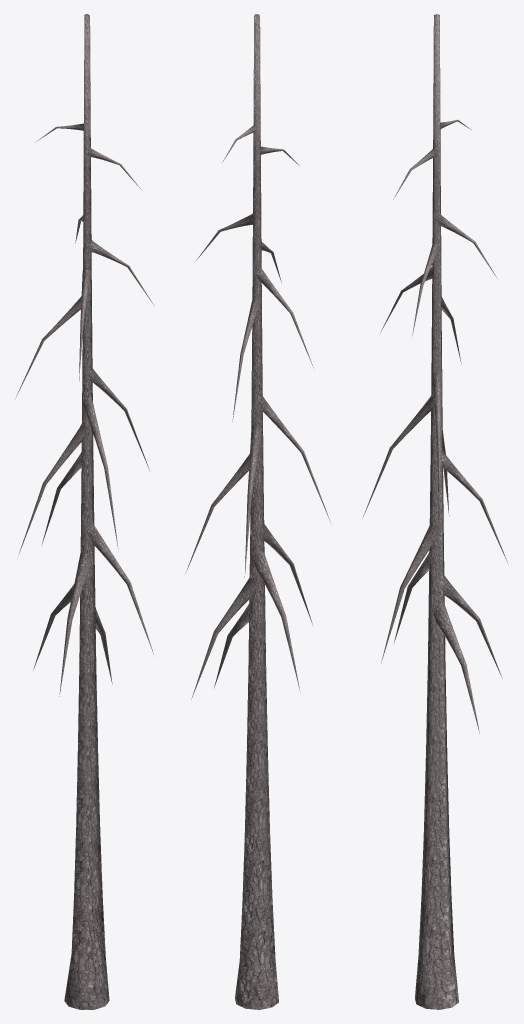
The model's file is died_tree1.fbx.
The picture shows the model from 3 angles, left to right: view 1: azimuth 90°, elevation 25°; view 2: azimuth 150°, elevation 25°; view 3: azimuth 330°, elevation 25°; orthographic projection.
Parts seen in each view (by area): view 1: died_tree1_LOD0; view 2: died_tree1_LOD0; view 3: died_tree1_LOD0.
Part boxes in pixels (<box>): died_tree1_LOD0: <box>16,14,154,1009</box>; died_tree1_LOD0: <box>185,14,330,1009</box>; died_tree1_LOD0: <box>363,14,507,1009</box>.
Size of what is drawn, in the model's own units: 132 by 1052 by 137.
Materials: 1 (1 with a texture image).
